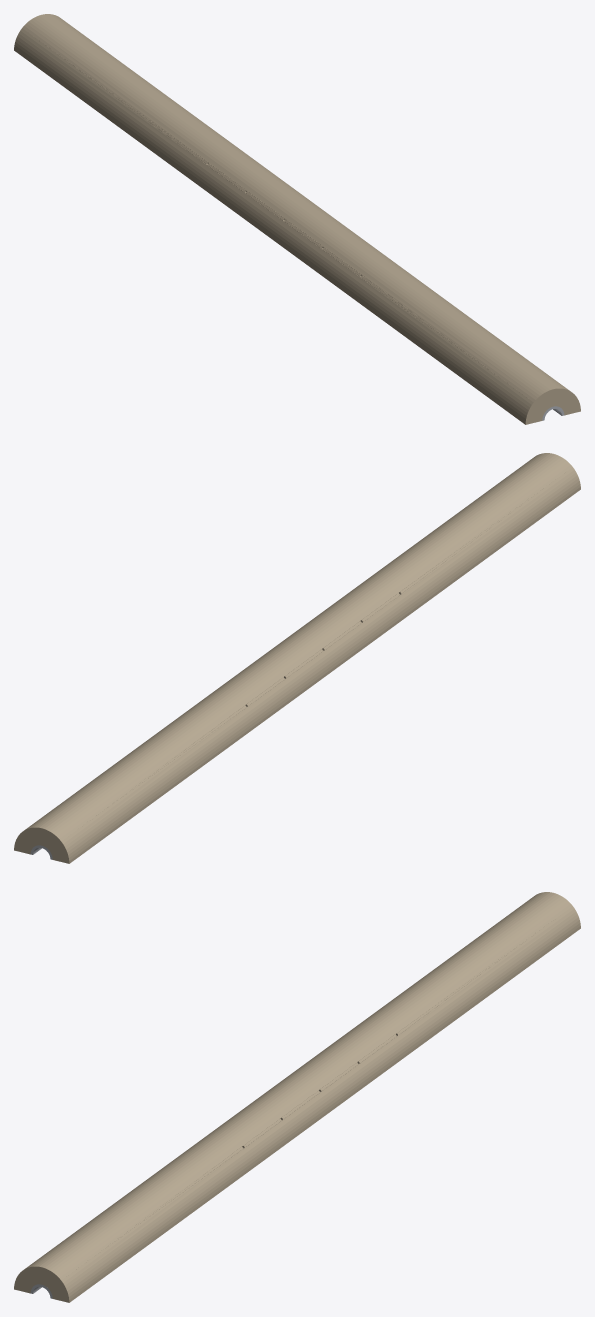
Rendered from SC-GRAVELPACK.glb.
3 views of the same model, one above another, from view 1: azimuth 30°, elevation 25°; view 2: azimuth 150°, elevation 25°; view 3: azimuth 330°, elevation 25° (orthographic).
Parts seen in each view (by area): view 1: SC-GRAVELPACK-FORMATION; view 2: SC-GRAVELPACK-FORMATION; view 3: SC-GRAVELPACK-FORMATION.
Boxes of the visible parts, <box> form: SC-GRAVELPACK-FORMATION: <box>14,14,580,424</box>; SC-GRAVELPACK-FORMATION: <box>14,453,580,863</box>; SC-GRAVELPACK-FORMATION: <box>14,892,580,1302</box>.
Bounding box in the file's own units: 0.508 × 0.254 × 8.13.
